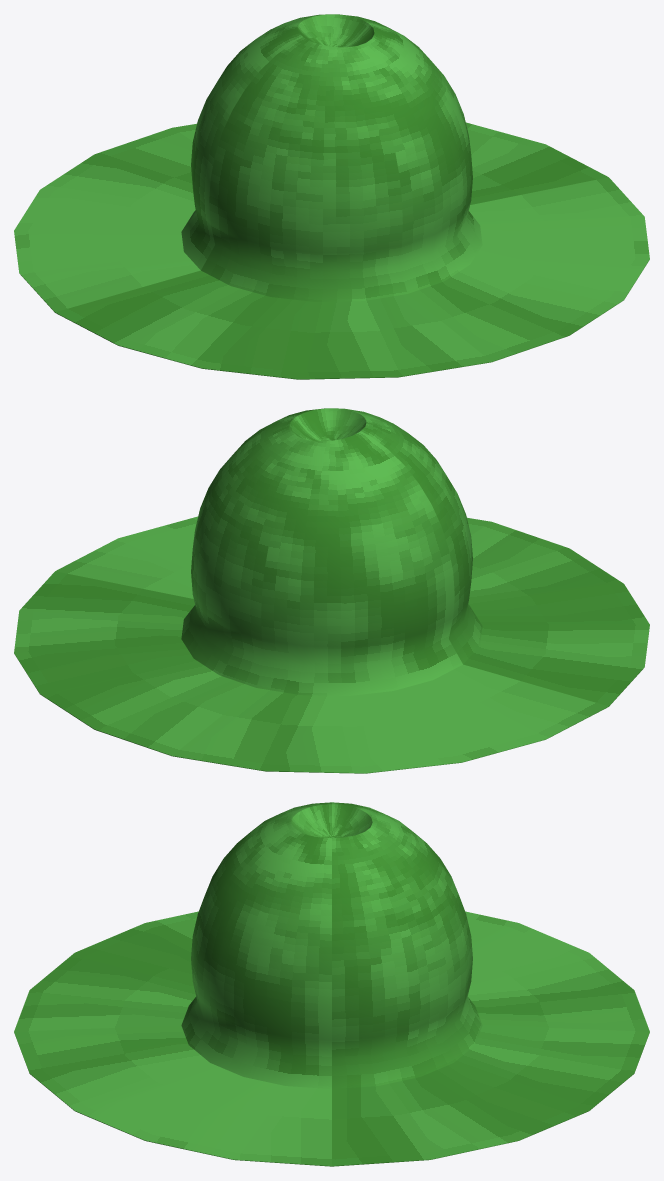
The model's file is cuerpo.obj.
The picture shows the model from 3 angles, top to bottom: view 1: azimuth 30°, elevation 25°; view 2: azimuth 150°, elevation 25°; view 3: azimuth 270°, elevation 25°; orthographic projection.
Parts seen in each view (by area): view 1: polySurface1; view 2: polySurface1; view 3: polySurface1.
Part boxes in pixels (x1=…): polySurface1: x1=14, y1=14, x2=649, y2=379; polySurface1: x1=14, y1=408, x2=649, y2=773; polySurface1: x1=14, y1=802, x2=649, y2=1166.
Bounding box in the file's own units: 4.51 × 2.23 × 4.51.
1 material, 1 textured.
